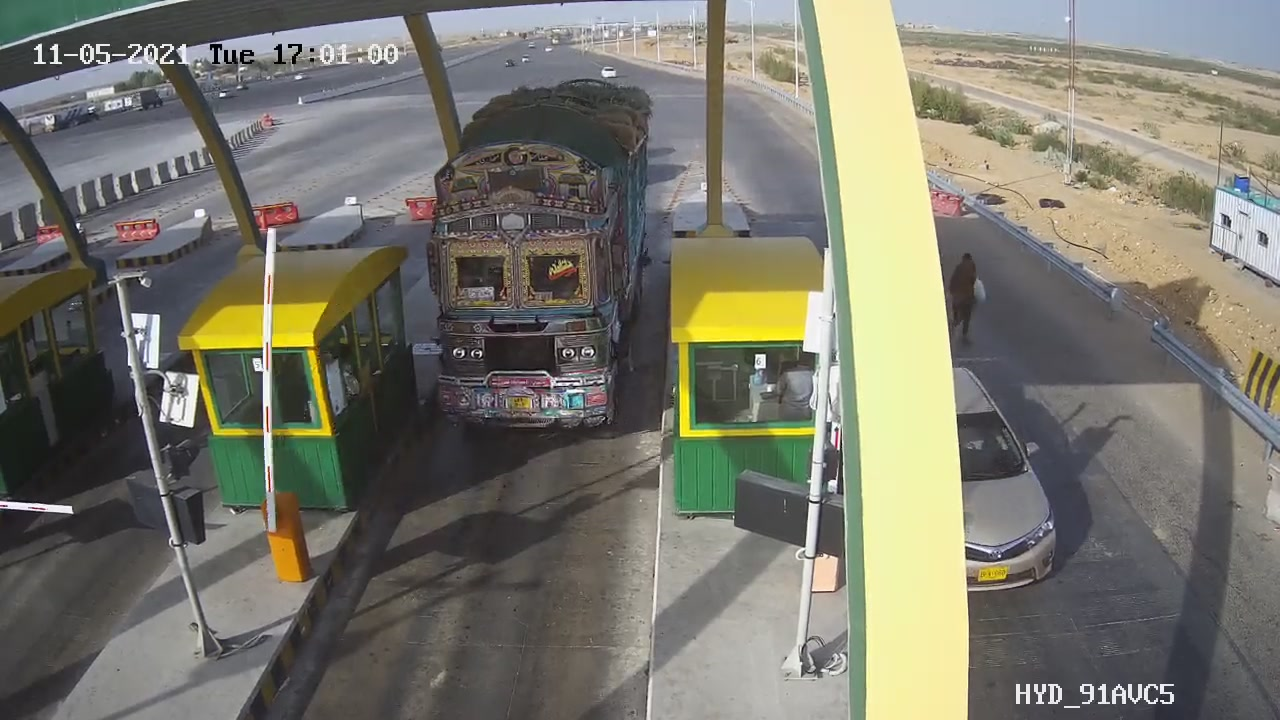F5: (394, 68, 676, 465)
